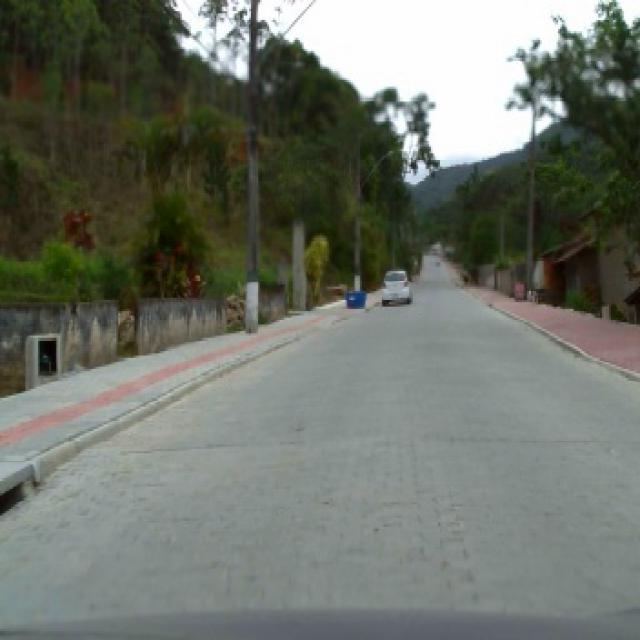Poth-hole: (4, 473, 32, 520)
